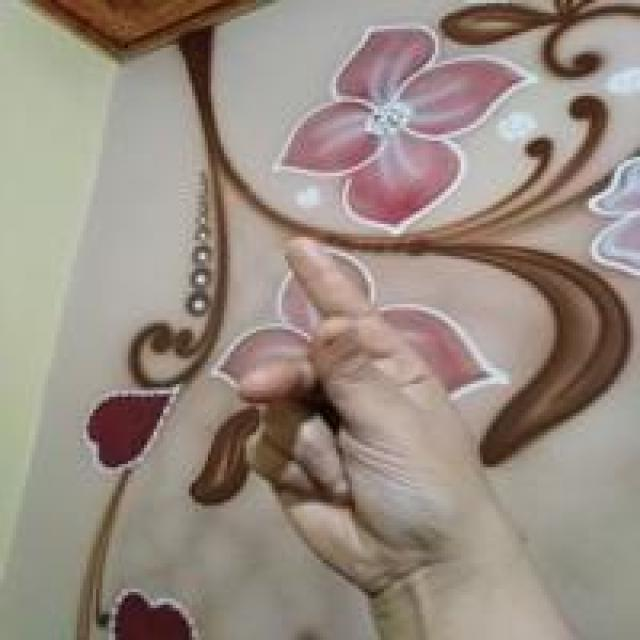K: (213, 228, 485, 578)
